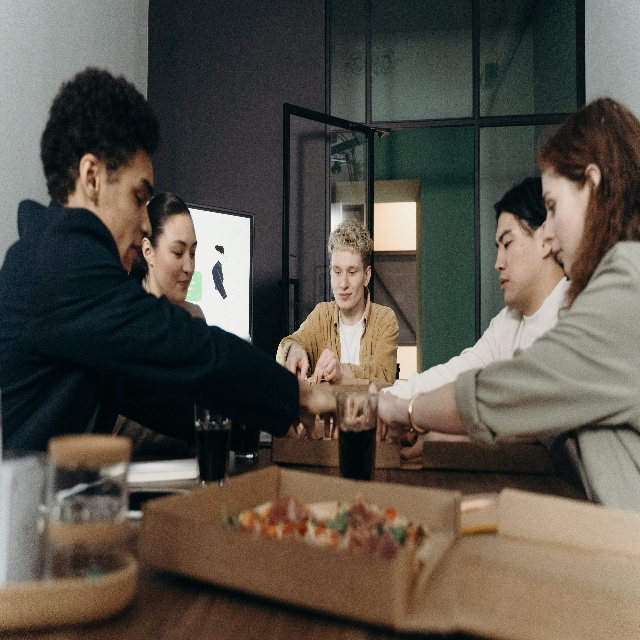Sin_guantes: (299, 384, 340, 440), (376, 392, 412, 441), (313, 351, 338, 385), (284, 346, 306, 372)
